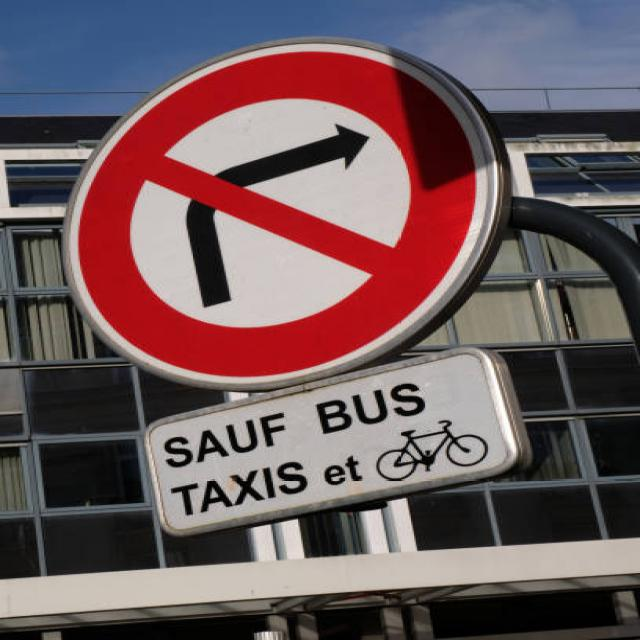do_not_turn_right: (28, 25, 530, 382)
